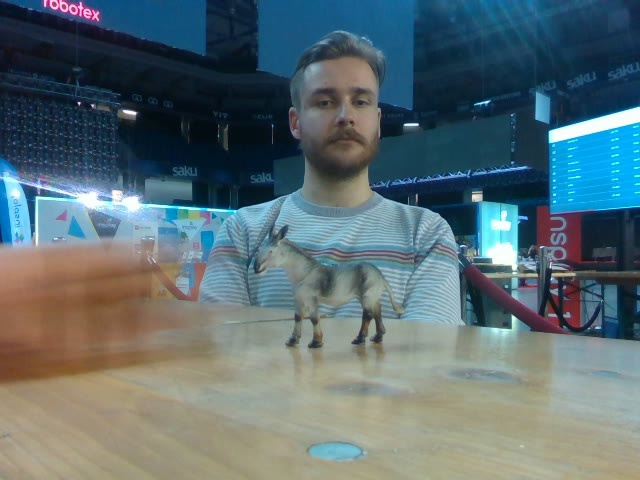toy: (252, 222, 399, 349)
